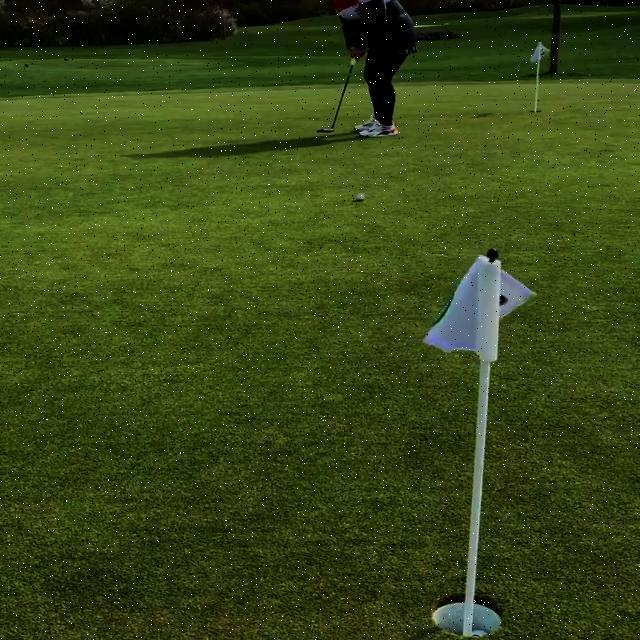ClubHead: (316, 128, 335, 133)
